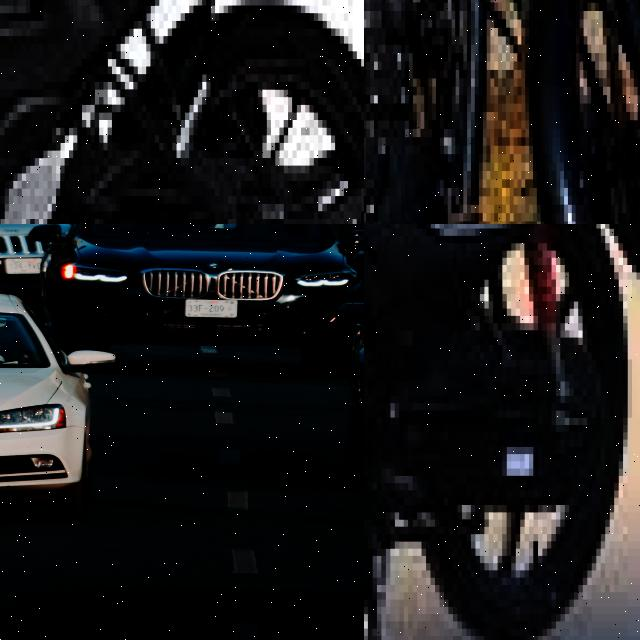bike: (364, 224, 640, 640), (0, 0, 364, 224), (364, 0, 640, 224)
car: (46, 224, 364, 362), (0, 295, 102, 524), (0, 224, 68, 299)
